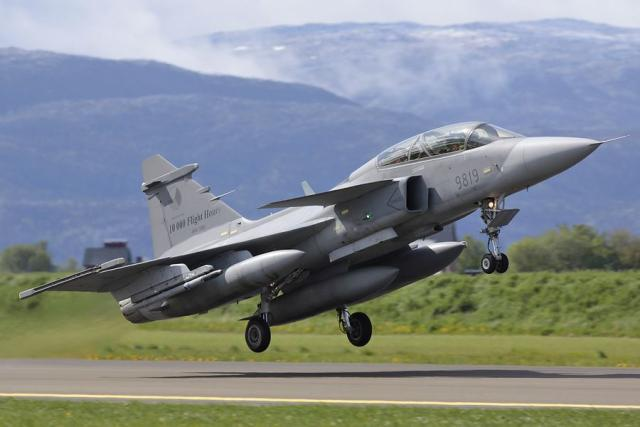airplane: (13, 118, 637, 353)
